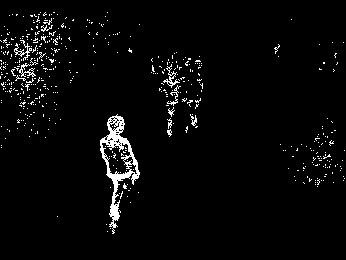person: (100, 112, 139, 232)
